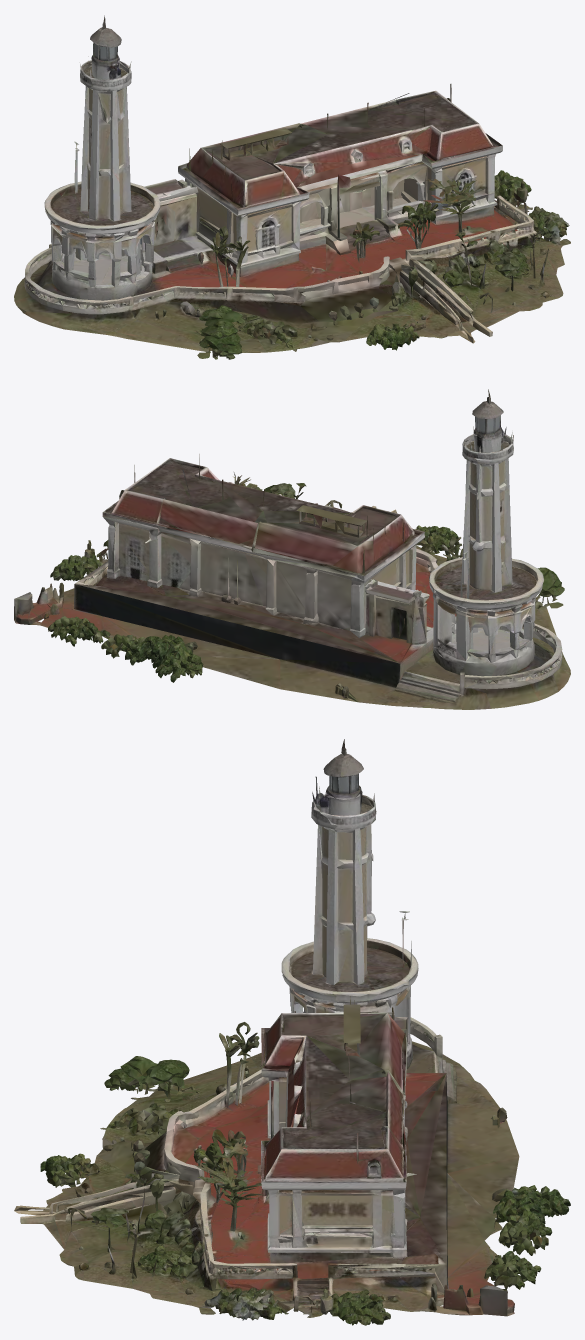
File: hai_dang.glb
3 views of the same model, one above another, from view 1: azimuth 30°, elevation 25°; view 2: azimuth 150°, elevation 25°; view 3: azimuth 270°, elevation 25° (orthographic). The views are drawn at different scales.
Parts seen in each view (by area): view 1: Mesh_0; view 2: Mesh_0; view 3: Mesh_0.
Boxes of the visible parts, <box> form: Mesh_0: <box>14,15,570,359</box>; Mesh_0: <box>14,389,570,709</box>; Mesh_0: <box>14,739,570,1325</box>.
Size of the model in its own units: 1.9 by 1.03 by 1.52.
Materials: 1 (1 with a texture image).
